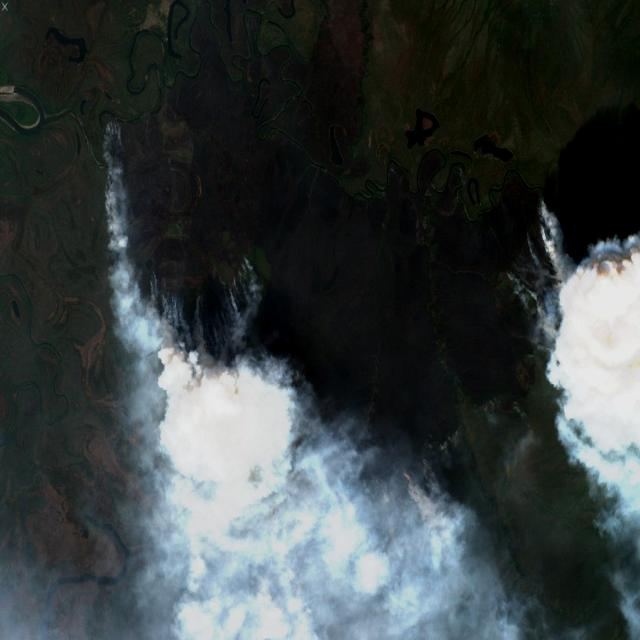fire: (94, 105, 595, 591)
